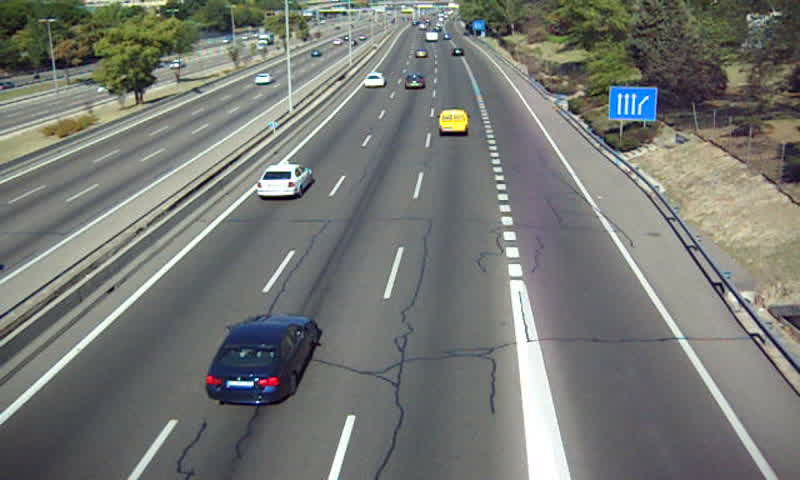car: (205, 314, 318, 404), (255, 164, 314, 198), (362, 72, 386, 90), (404, 73, 425, 90)
van: (438, 110, 469, 136)
